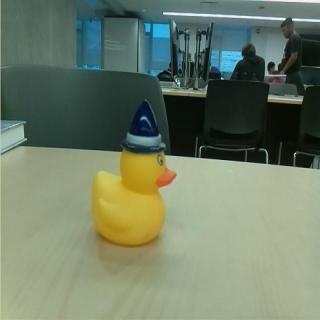duck_specialty: (91, 99, 179, 248)
